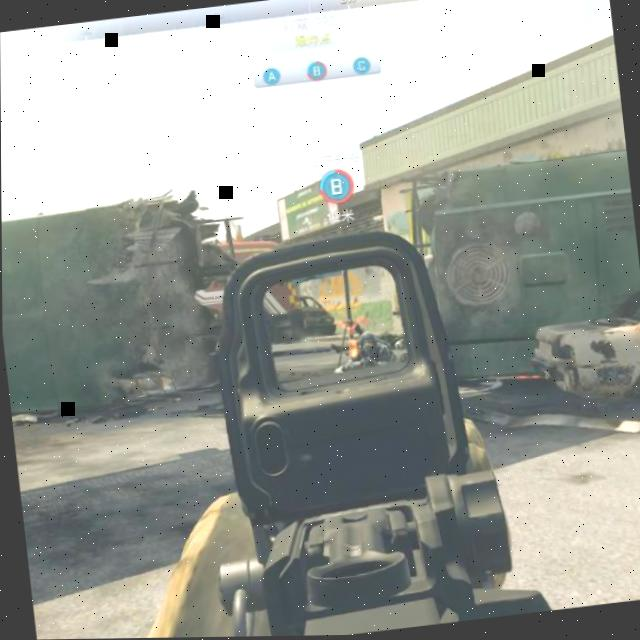MW2_body: (333, 328, 397, 375)
